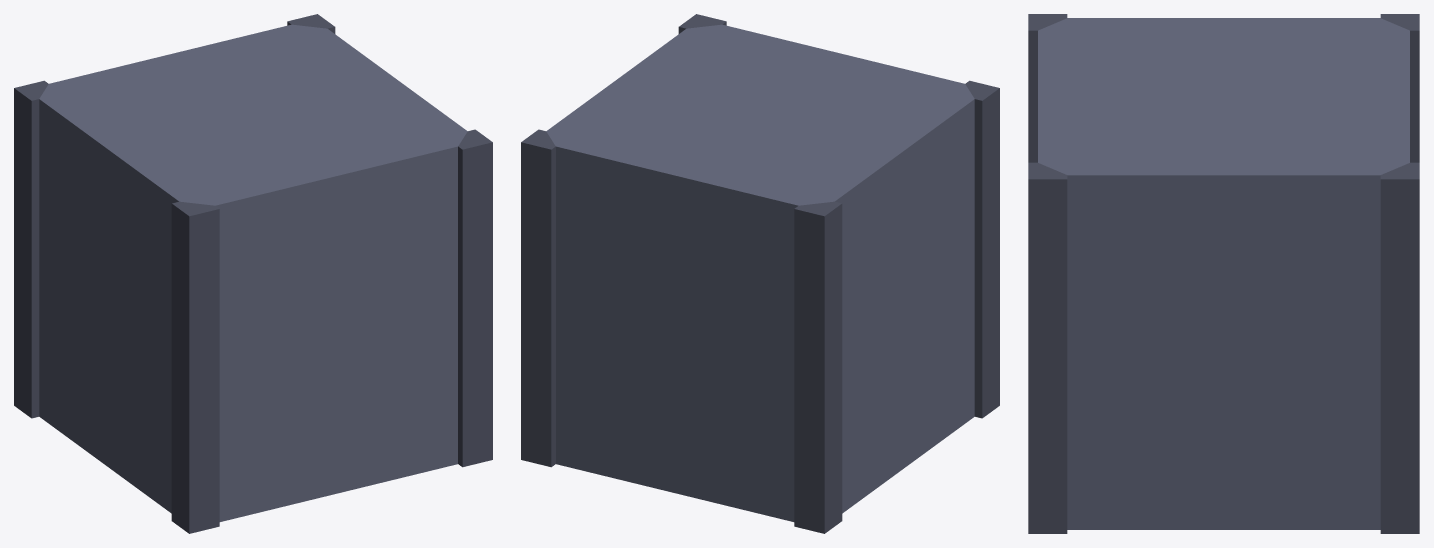
File: wall-wood-block.glb
3 views of the same model, side by side, from view 1: azimuth 30°, elevation 25°; view 2: azimuth 150°, elevation 25°; view 3: azimuth 270°, elevation 25° (orthographic). The views are drawn at different scales.
Visible parts, largest first — view 1: wall-wood-block; view 2: wall-wood-block; view 3: wall-wood-block.
Boxes of the visible parts, left/top/right/bottom form: wall-wood-block: left=14, top=14, right=492, bottom=533; wall-wood-block: left=521, top=14, right=999, bottom=533; wall-wood-block: left=1028, top=14, right=1419, bottom=533.
Bounding box in the file's own units: 1 × 1 × 1.
Materials: 1 (1 with a texture image).
